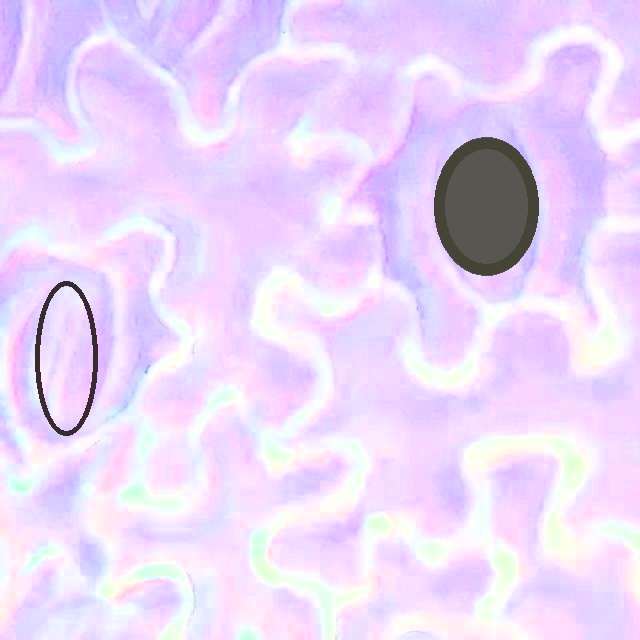open: (435, 137, 538, 275), (34, 280, 99, 435)
